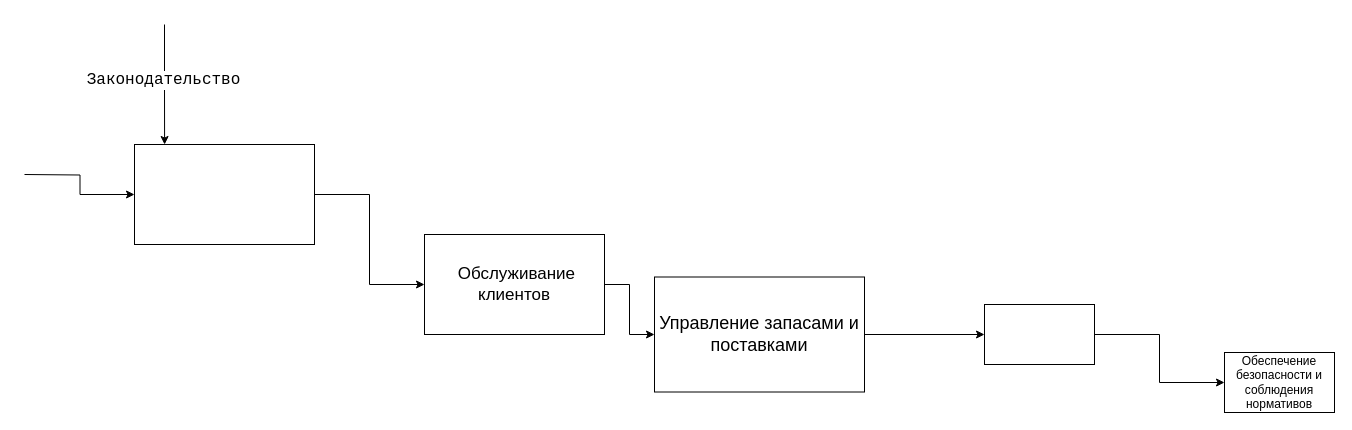
Image size: 1352x430. Some labels were removed from this diagram. Each missing label, with the box of its shape:
Управление ассортиментом и производством: (134, 144, 314, 244)
Финансовый учет и контроль: (984, 304, 1094, 364)
